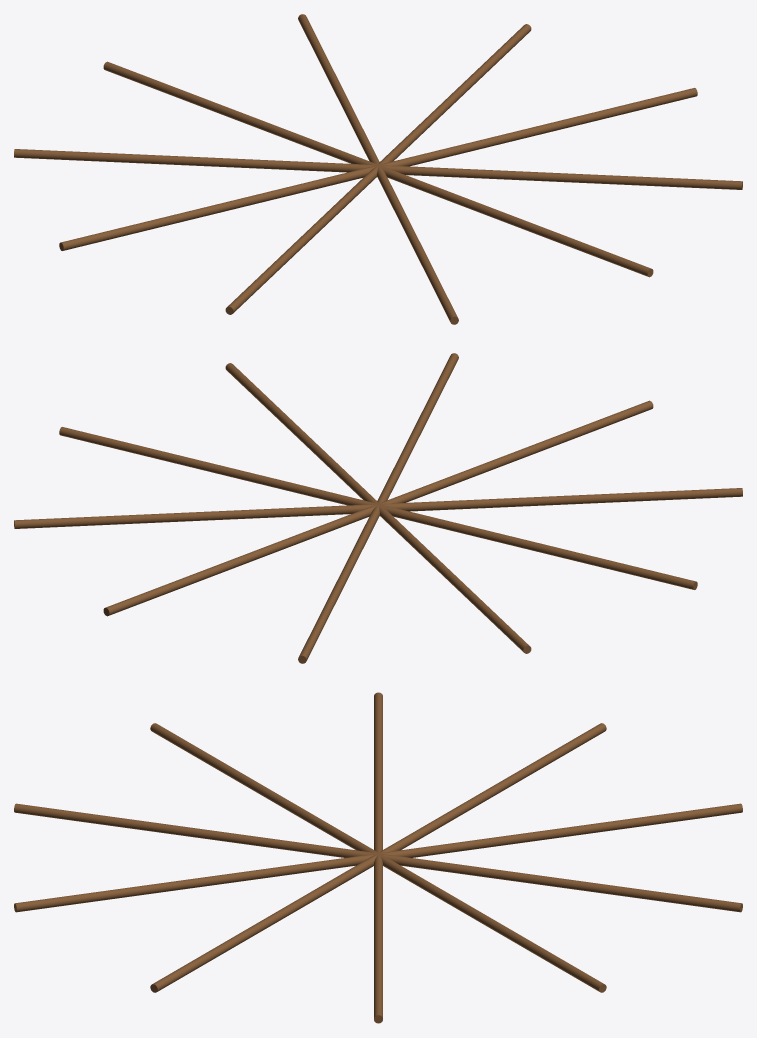
File: ArxWoddenBeams.fbx
3 renders of one model, top to bottom at view 1: azimuth 30°, elevation 25°; view 2: azimuth 150°, elevation 25°; view 3: azimuth 270°, elevation 25°, orthographic. The views are drawn at different scales.
Parts seen in each view (by area): view 1: WoodenBeams; view 2: WoodenBeams; view 3: WoodenBeams.
Part boxes in pixels (<box>): WoodenBeams: <box>14,14,742,324</box>; WoodenBeams: <box>14,353,742,663</box>; WoodenBeams: <box>14,692,742,1023</box>.
Bounding box in the file's own units: 823 × 10 × 785.
